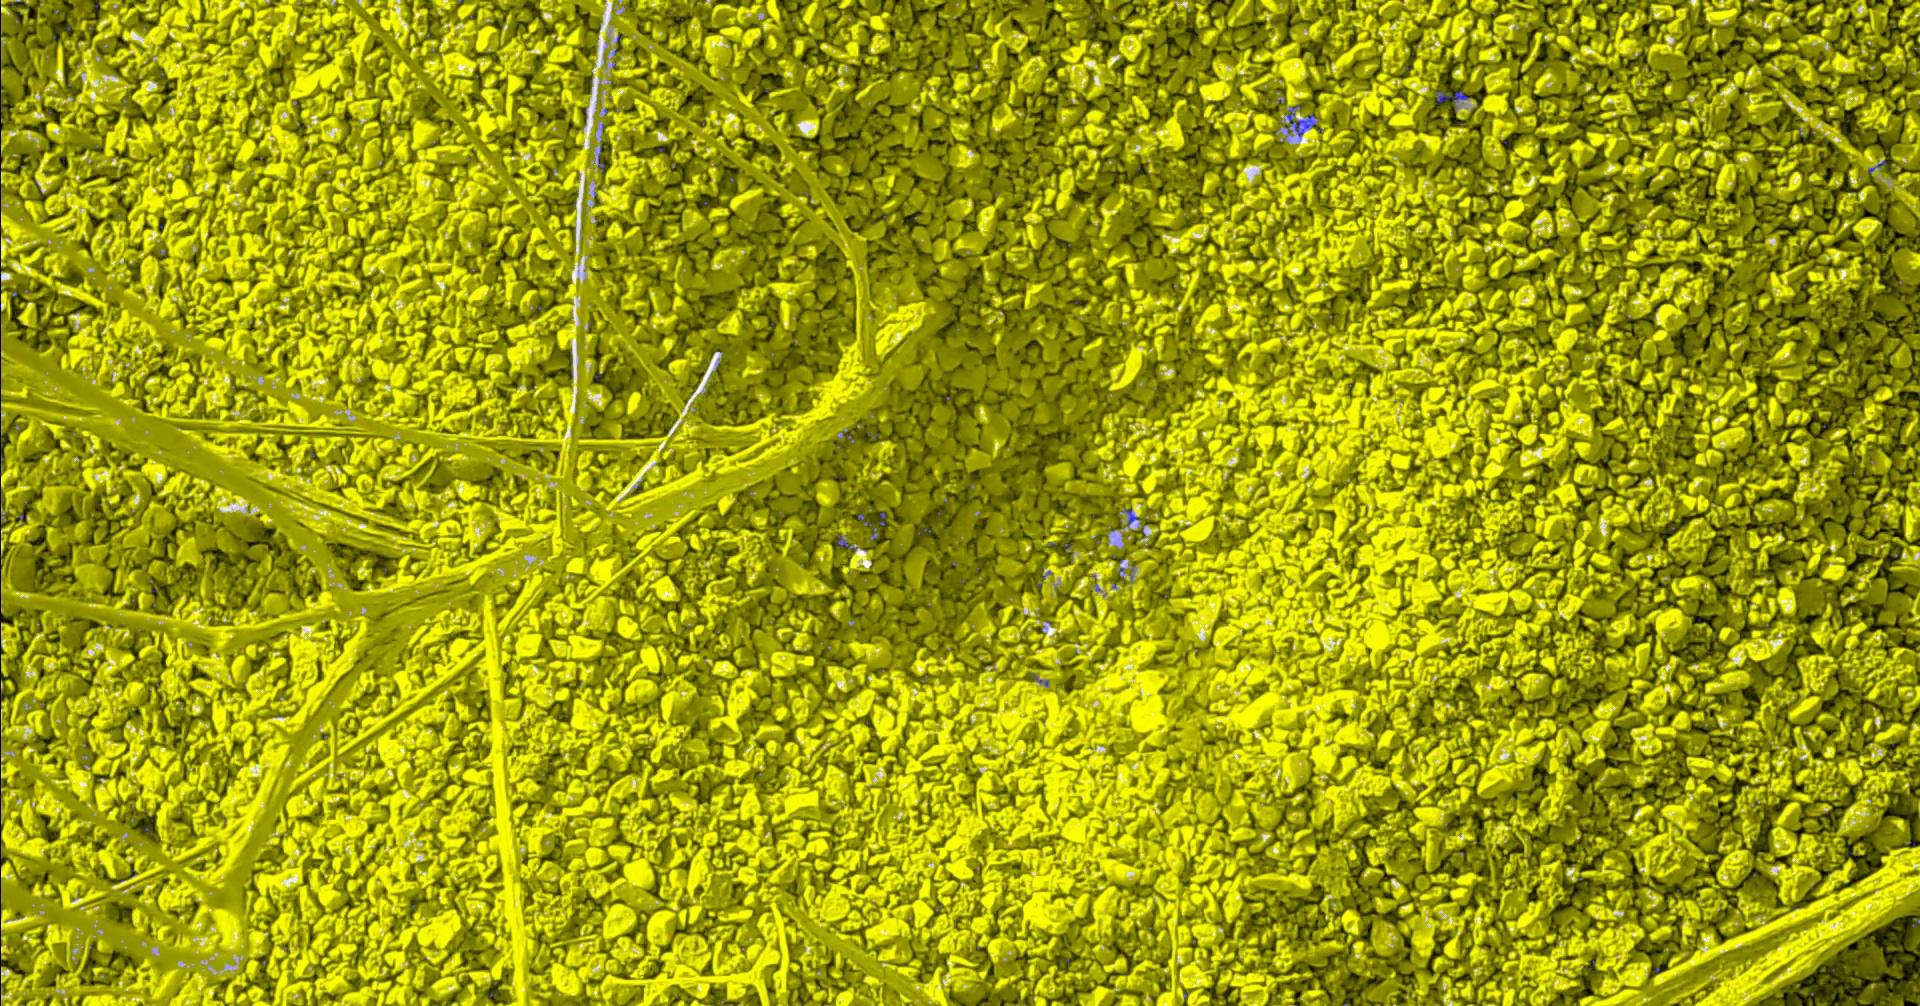ant: (1289, 105, 1318, 138), (1437, 89, 1470, 103)
